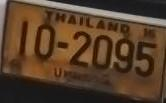letters: (134, 41, 158, 78), (34, 23, 56, 61), (71, 30, 91, 68), (114, 38, 135, 74), (93, 34, 113, 70), (18, 20, 29, 55)
province: (53, 67, 109, 86)
